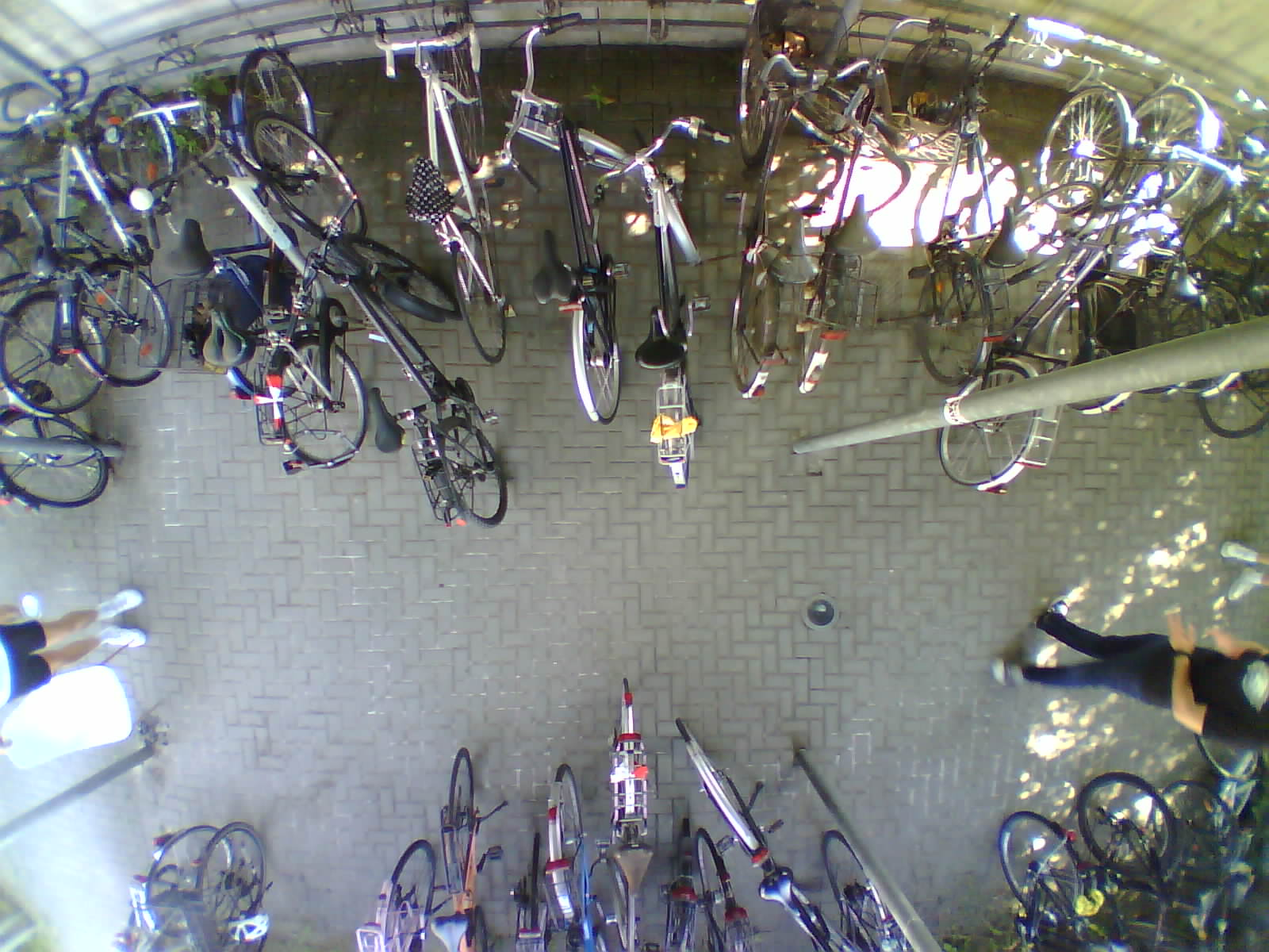bicylce: (200, 117, 358, 472), (323, 236, 510, 529), (168, 59, 319, 398), (941, 187, 1106, 490), (668, 718, 872, 952), (510, 83, 649, 424), (45, 85, 172, 388), (406, 44, 514, 364), (894, 52, 994, 388), (1039, 84, 1136, 416), (0, 101, 101, 417), (795, 39, 880, 401), (626, 149, 706, 491), (1133, 85, 1217, 397), (734, 38, 802, 400), (1206, 136, 1269, 438), (598, 674, 658, 952)
saddle: (403, 157, 454, 221), (200, 309, 253, 367), (832, 194, 881, 254), (636, 310, 684, 370), (984, 206, 1027, 270), (366, 389, 406, 454), (536, 232, 572, 304), (167, 221, 212, 278), (782, 215, 816, 283), (760, 869, 803, 916), (612, 850, 649, 902), (428, 916, 473, 952), (31, 226, 57, 278), (1175, 262, 1196, 308), (1074, 335, 1100, 370)
